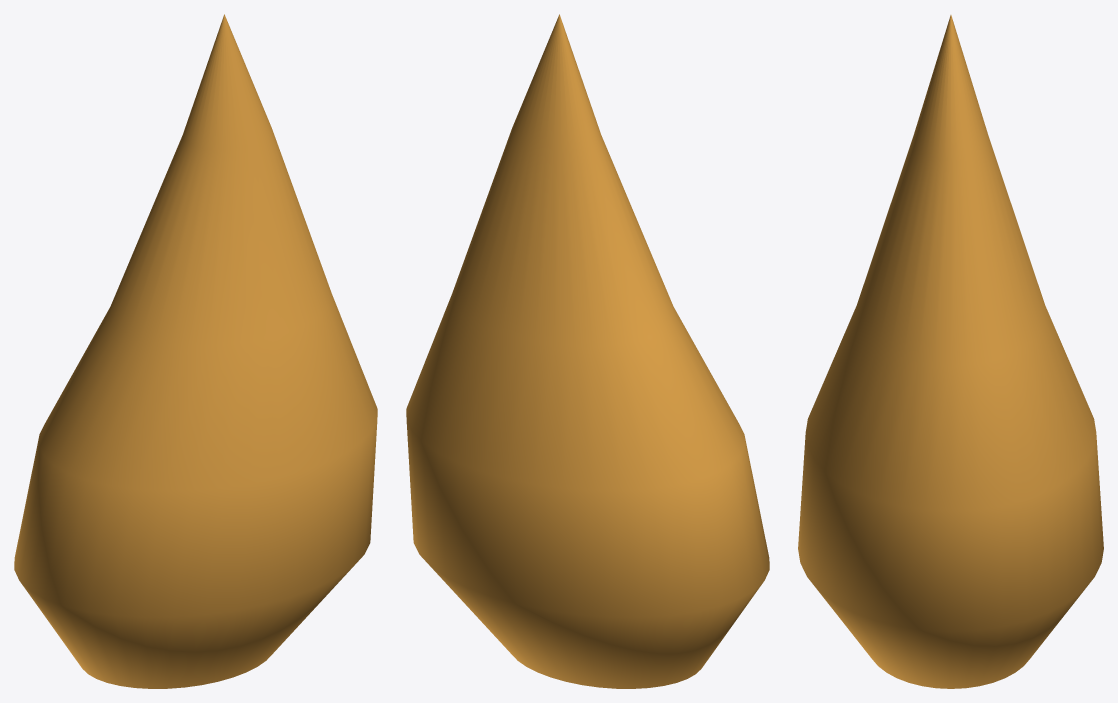
Rendered from flame_pearl.glb.
3 renders of one model, left to right at view 1: azimuth 30°, elevation 25°; view 2: azimuth 150°, elevation 25°; view 3: azimuth 270°, elevation 25°, orthographic. The views are drawn at different scales.
Visible parts, largest first — view 1: Polished teardrop flame; view 2: Polished teardrop flame; view 3: Polished teardrop flame.
Part boxes in pixels (x1,y1,x2,y2): Polished teardrop flame: (14,14,377,688); Polished teardrop flame: (406,14,769,688); Polished teardrop flame: (798,15,1103,688).
Size of the model in its own units: 0.4096 by 0.76 by 0.312.
